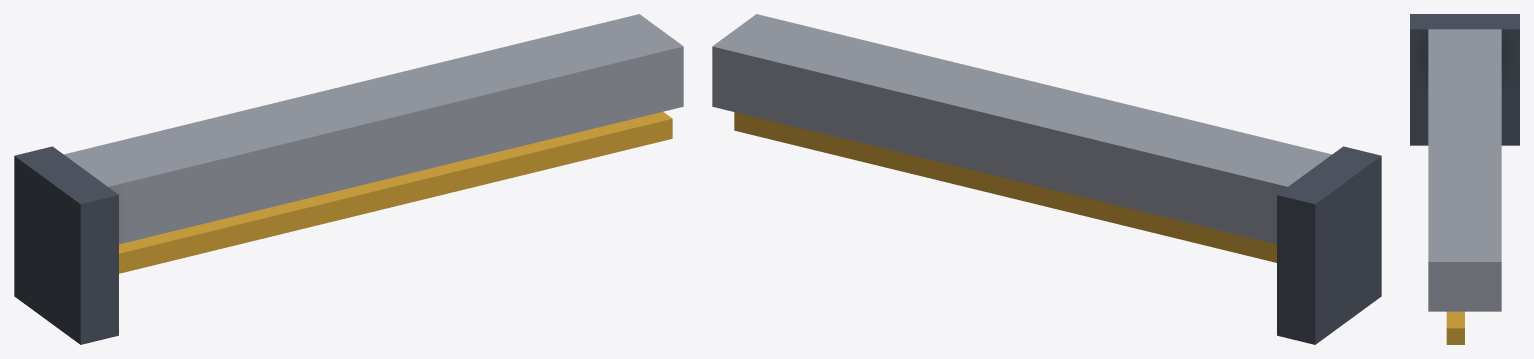
Rendered from pad_arm_e5.glb.
The picture shows the model from 3 angles, left to right: view 1: azimuth 30°, elevation 25°; view 2: azimuth 150°, elevation 25°; view 3: azimuth 270°, elevation 25°; orthographic projection. The views are drawn at different scales.
Visible parts, largest first — view 1: Base; view 2: Base; view 3: Base.
Boxes of the visible parts, x1,y1,x2,y2 form: Base: (14, 14, 683, 344); Base: (712, 14, 1381, 344); Base: (1410, 14, 1519, 344).
Bounding box in the file's own units: 3.2 × 0.7 × 0.6.
